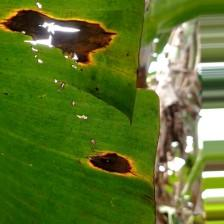cordana: (0, 0, 160, 224)
